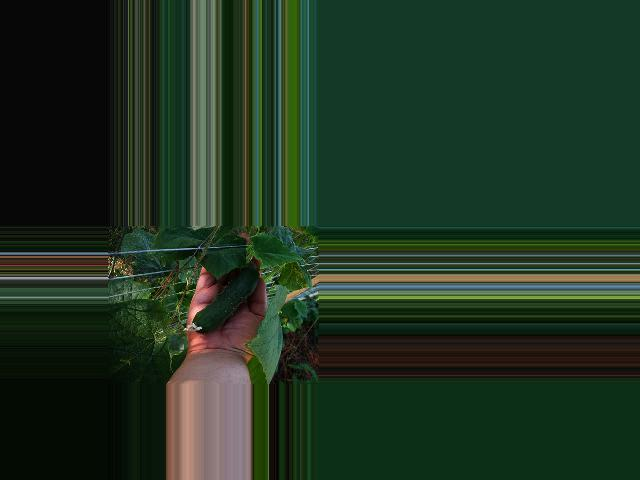cucumber: (182, 266, 258, 333)
